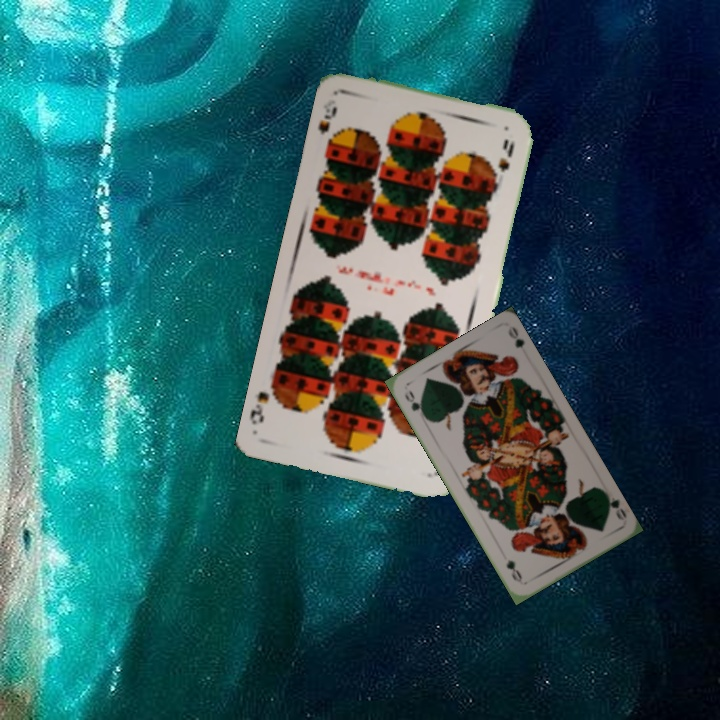GO: (600, 488, 629, 523), (400, 386, 428, 421)
S9: (314, 95, 342, 150)
